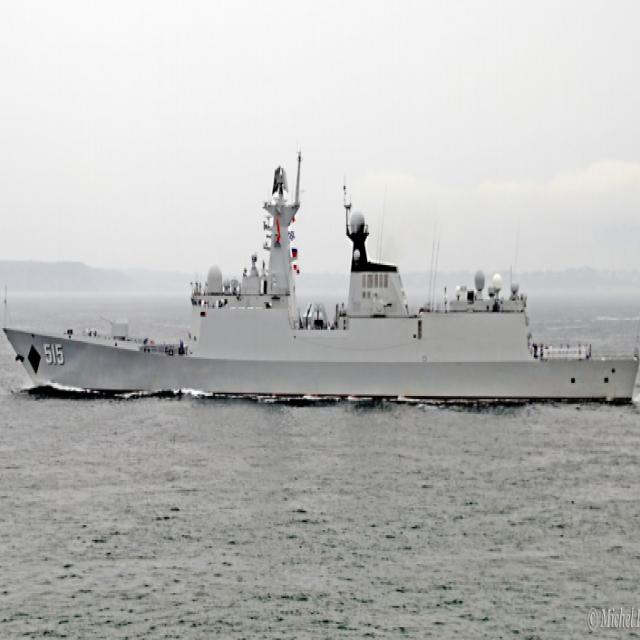Fragata: (3, 153, 640, 403)
